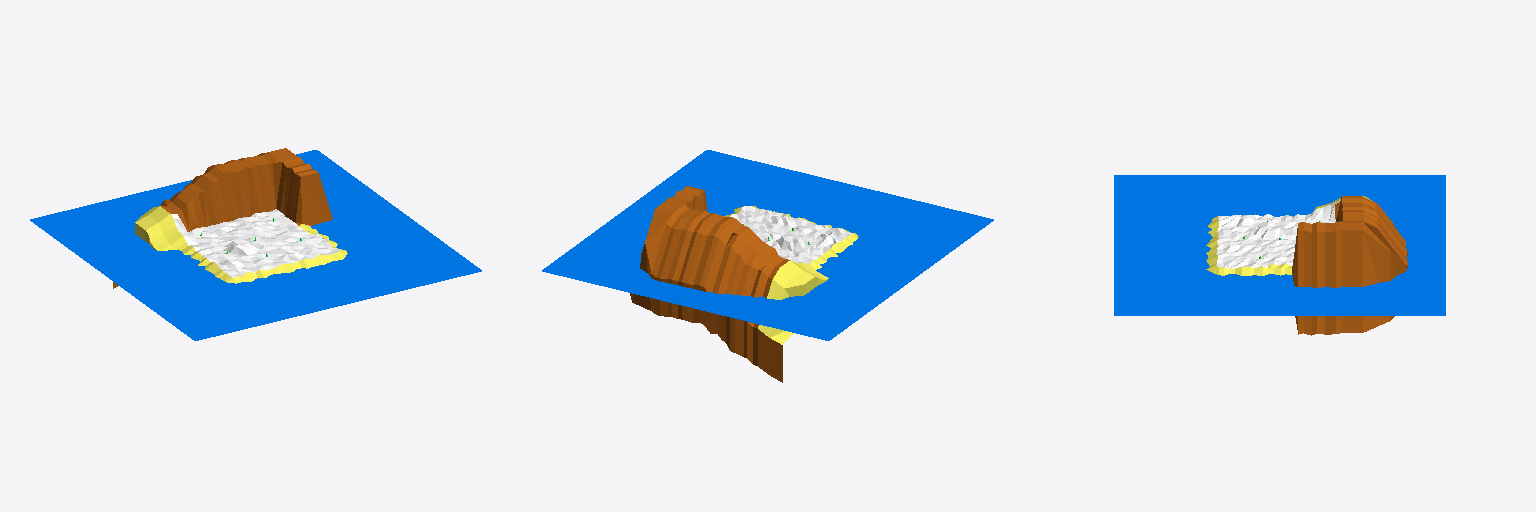
The model's file is skjar-isles.obj.
The picture shows the model from 3 angles: view 1: azimuth 30°, elevation 25°; view 2: azimuth 150°, elevation 25°; view 3: azimuth 270°, elevation 25°; orthographic projection.
Visible parts, largest first — view 1: NP_Ocean, Mountains, Plains, Beaches, Pathway; view 2: NP_Ocean, Mountains, Plains, Beaches, Pathway; view 3: NP_Ocean, Mountains, Plains, Beaches, Pathway.
Part boxes in pixels (left/top/right/bottom): NP_Ocean: left=30, top=150, right=481, bottom=340; Mountains: left=113, top=152, right=332, bottom=288; Plains: left=171, top=209, right=339, bottom=277; Beaches: left=135, top=206, right=347, bottom=283; Pathway: left=161, top=148, right=318, bottom=213; NP_Ocean: left=542, top=150, right=993, bottom=340; Mountains: left=630, top=191, right=782, bottom=382; Plains: left=730, top=206, right=851, bottom=264; Beaches: left=724, top=206, right=859, bottom=344; Pathway: left=656, top=186, right=789, bottom=267; NP_Ocean: left=1114, top=175, right=1445, bottom=315; Mountains: left=1292, top=196, right=1407, bottom=335; Plains: left=1216, top=199, right=1340, bottom=268; Beaches: left=1206, top=196, right=1371, bottom=275; Pathway: left=1298, top=196, right=1363, bottom=232.
Size of the model in its own units: 1600 by 646 by 1600.